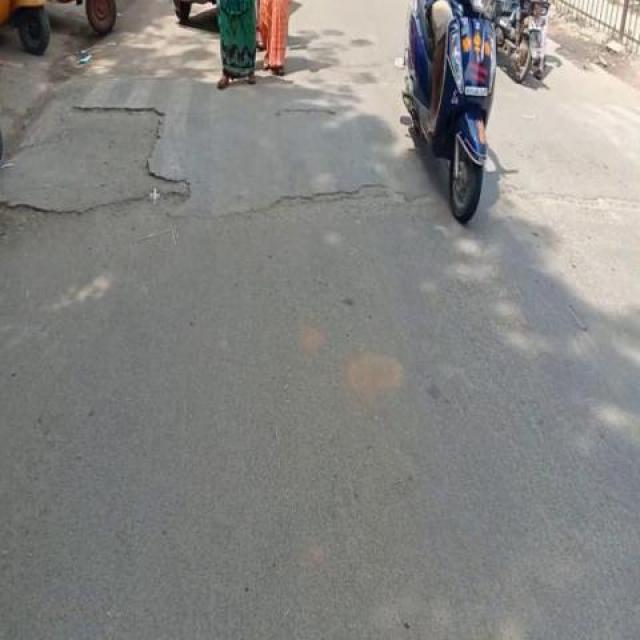Pothole: (39, 94, 194, 207), (253, 176, 397, 226), (276, 94, 352, 128)
Speed Bump: (1, 70, 404, 210), (488, 94, 640, 197)
